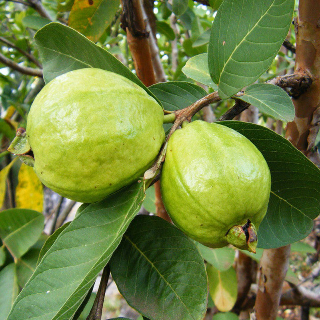oi: (30, 64, 168, 204), (162, 120, 274, 248)
